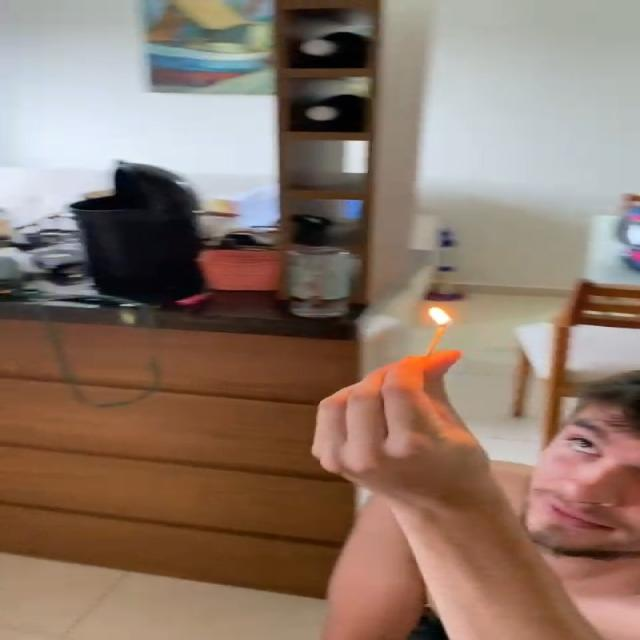fogo-ypXI: (418, 303, 458, 326)
